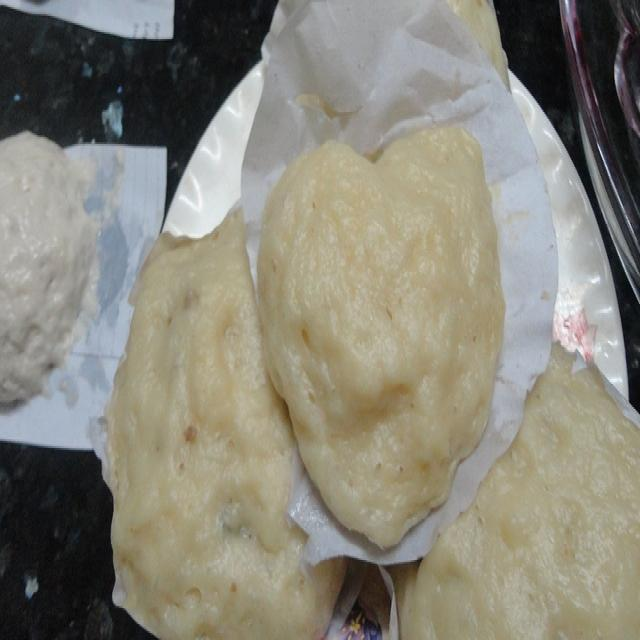带馅早点: (26, 27, 620, 608)
